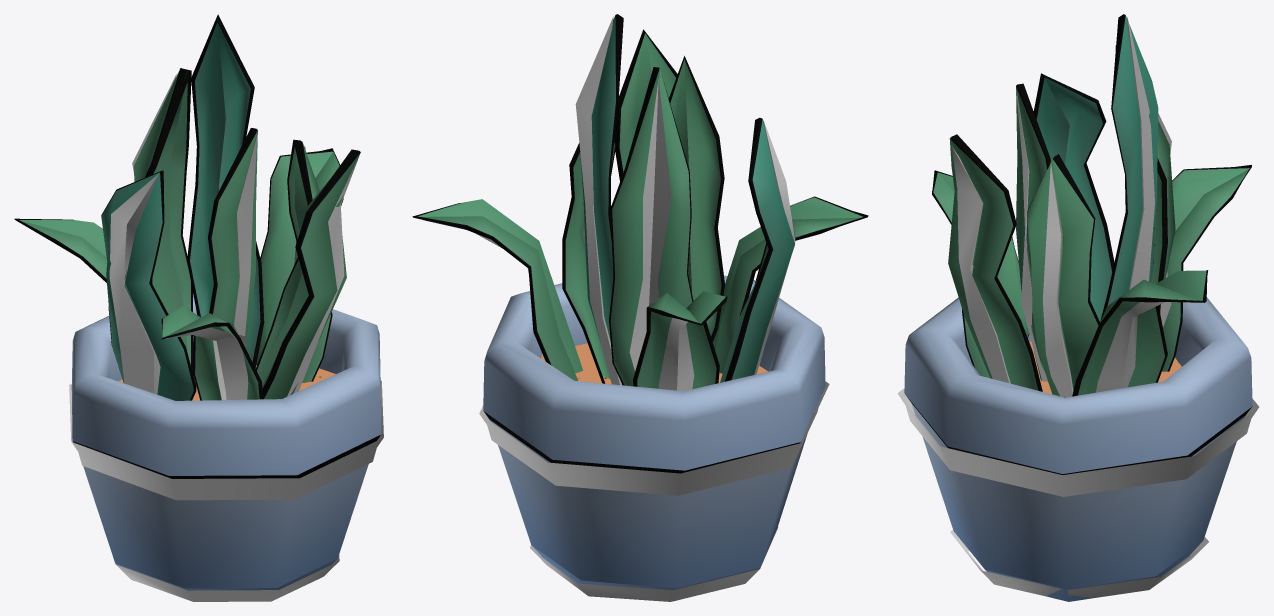
The model's file is Rooms_Paradise_SmallFlowerPot_03_Art.fbx.
The picture shows the model from 3 angles, left to right: view 1: azimuth 30°, elevation 25°; view 2: azimuth 150°, elevation 25°; view 3: azimuth 270°, elevation 25°; orthographic projection. The views are drawn at different scales.
Visible parts, largest first — view 1: Rooms_Paradise_SmallFlowerPot_03_Art; view 2: Rooms_Paradise_SmallFlowerPot_03_Art; view 3: Rooms_Paradise_SmallFlowerPot_03_Art.
Part boxes in pixels (x1,y1,x2,y2): Rooms_Paradise_SmallFlowerPot_03_Art: (14, 14, 383, 601); Rooms_Paradise_SmallFlowerPot_03_Art: (412, 14, 868, 601); Rooms_Paradise_SmallFlowerPot_03_Art: (897, 14, 1259, 601).
Bounding box in the file's own units: 75.8 × 121 × 72.4.
